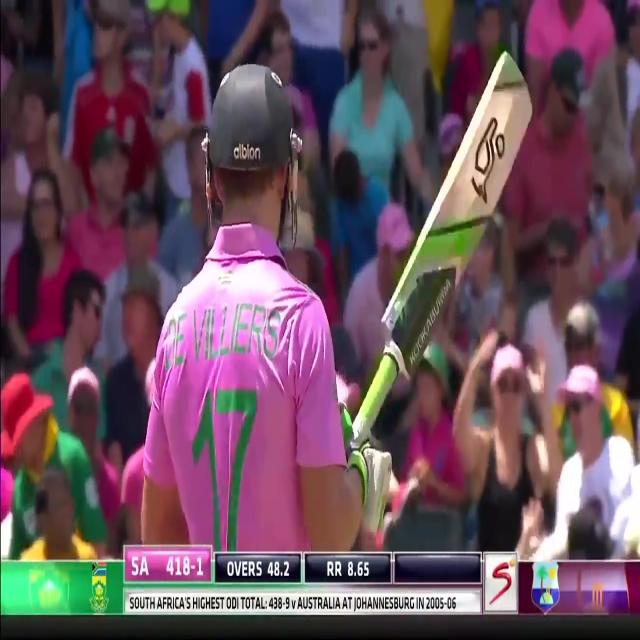Ball: (130, 47, 374, 550)
